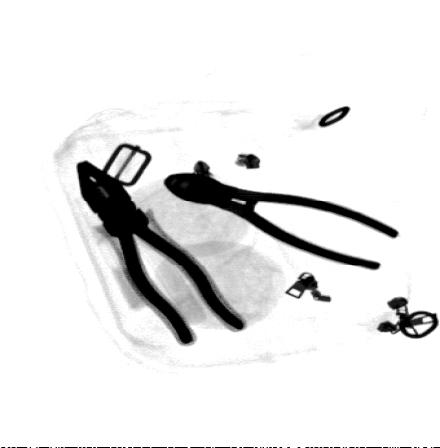Pliers: (75, 159, 249, 347), (162, 172, 401, 272)
